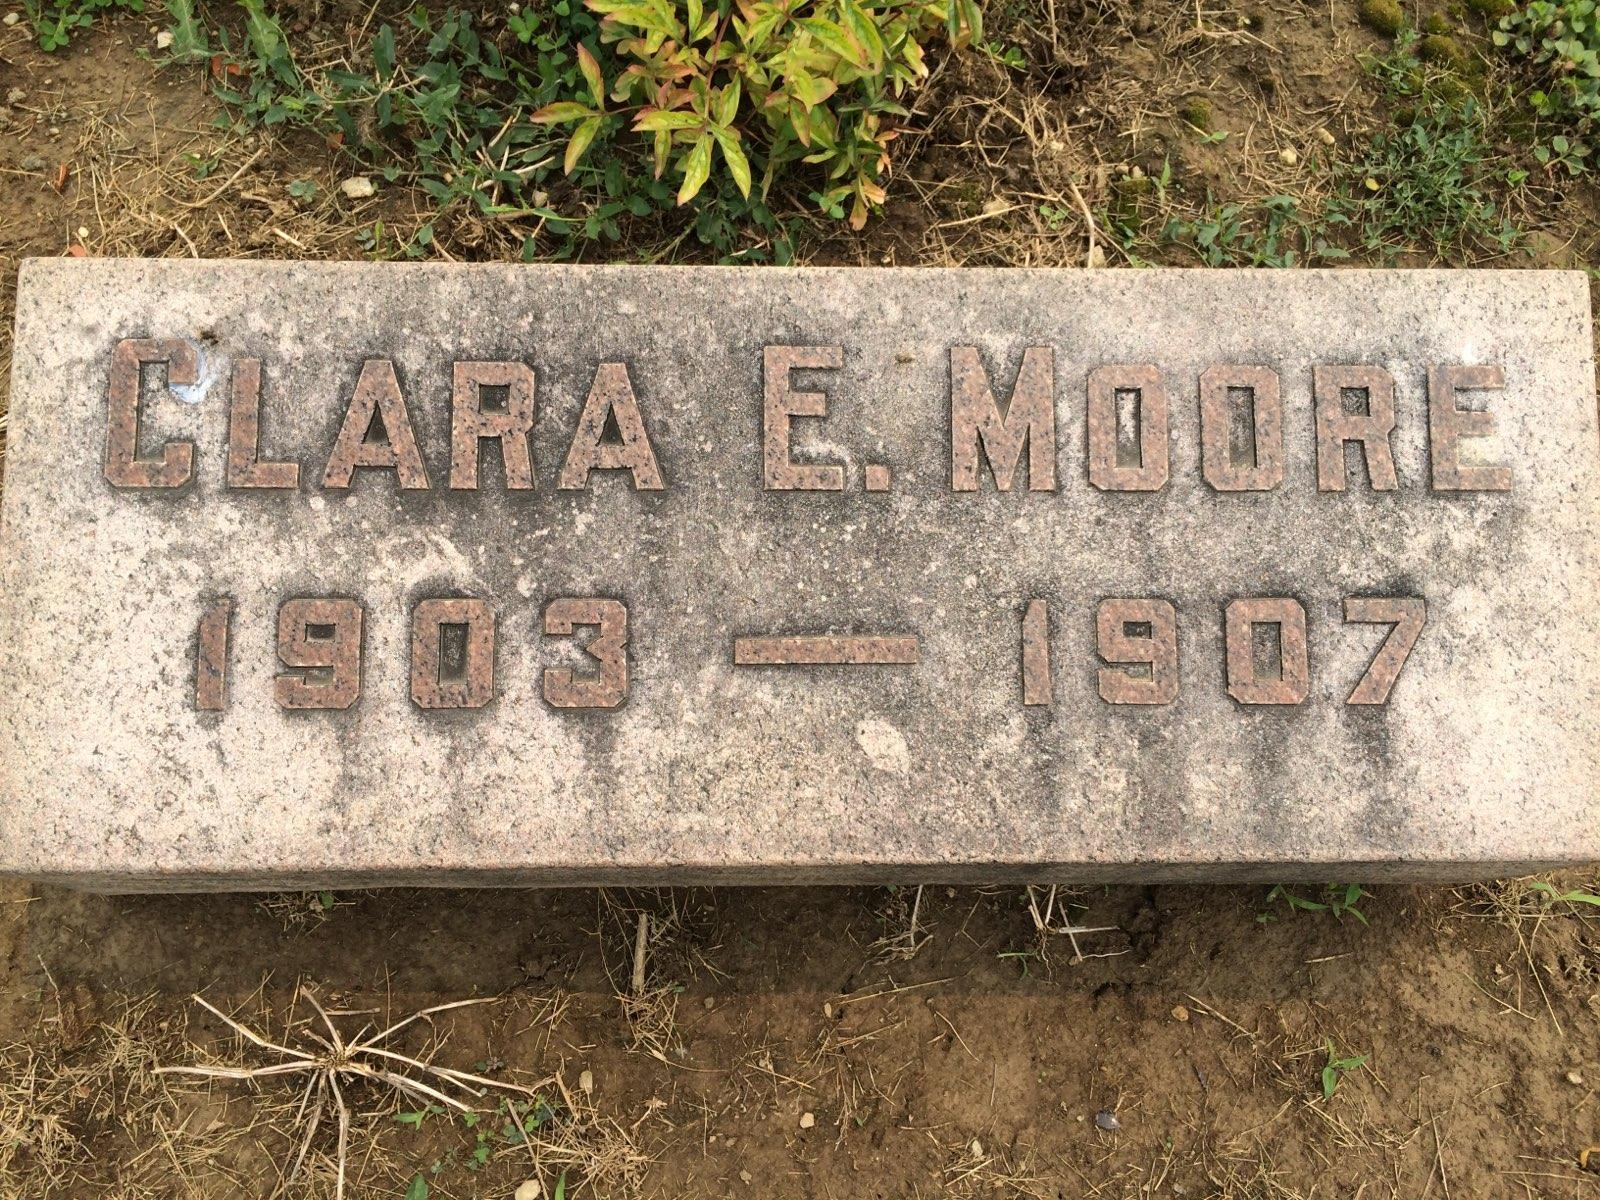flat: (0, 242, 1600, 914)
